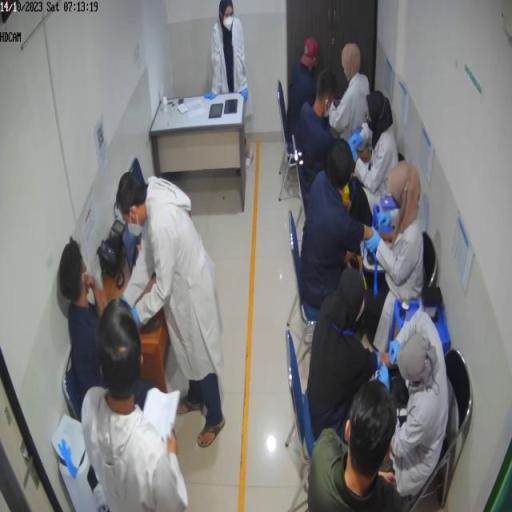person: (116, 172, 227, 449), (83, 299, 189, 510), (58, 233, 168, 423), (306, 270, 394, 444), (301, 140, 383, 309), (307, 380, 406, 511), (388, 311, 449, 500), (364, 161, 426, 316), (206, 1, 253, 169), (299, 71, 340, 194), (354, 90, 400, 196), (330, 43, 372, 142), (288, 37, 322, 147)
